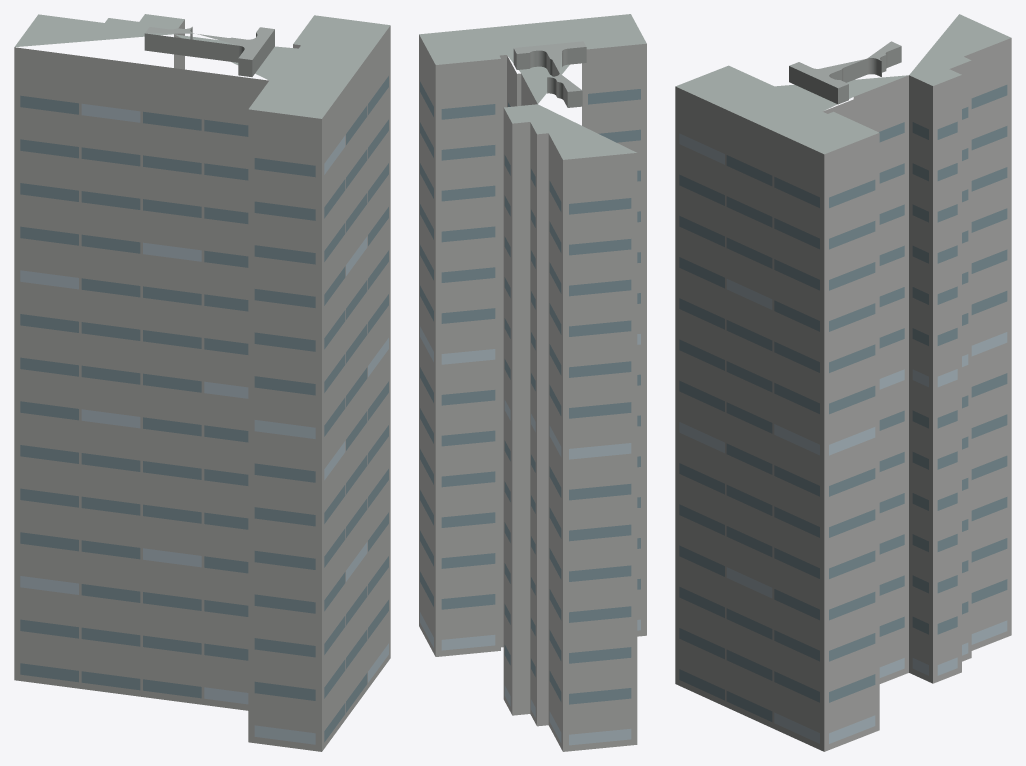
The model's file is fallback-gaepo-xi-presidence-411.glb.
3 views of the same model, side by side, from view 1: azimuth 30°, elevation 25°; view 2: azimuth 150°, elevation 25°; view 3: azimuth 270°, elevation 25° (orthographic). The views are drawn at different scales.
Visible parts, largest first — view 1: fallback-gaepo-xi-presidence-411; view 2: fallback-gaepo-xi-presidence-411; view 3: fallback-gaepo-xi-presidence-411.
Part boxes in pixels (<box>): fallback-gaepo-xi-presidence-411: <box>14,14,390,751</box>; fallback-gaepo-xi-presidence-411: <box>419,14,646,751</box>; fallback-gaepo-xi-presidence-411: <box>675,14,1011,751</box>.
Size of the model in its own units: 44.57 by 90.85 by 45.11.
